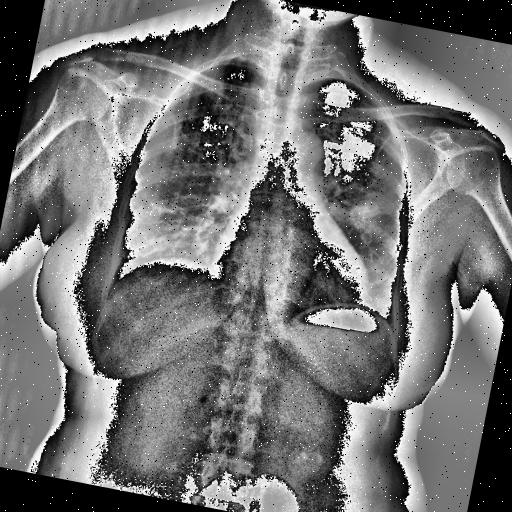8- Nodule-Mass: (336, 185, 400, 249), (340, 186, 398, 244), (338, 190, 393, 240)
